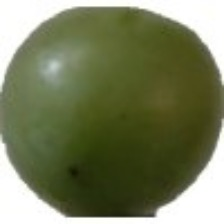grapes: (32, 16, 188, 170)
